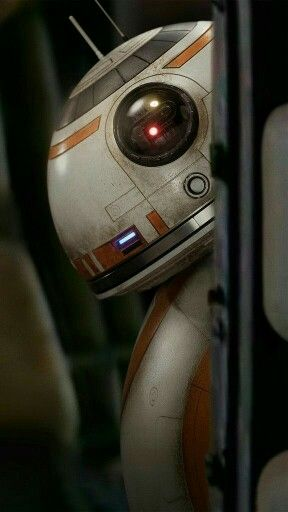bb8: (46, 15, 208, 512)
